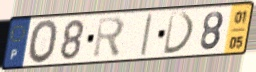8: (58, 19, 85, 62), (199, 10, 225, 52)
D: (162, 11, 197, 57)
I: (139, 12, 155, 59)
O: (27, 18, 60, 66)
R: (91, 15, 127, 61)
